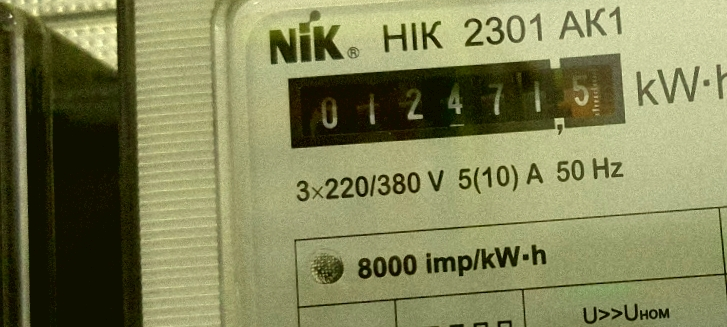0: (316, 92, 341, 130)
1: (365, 90, 378, 126), (530, 77, 543, 113)
2: (403, 84, 426, 122)
4: (444, 79, 465, 116)
5: (570, 69, 593, 108)
7: (484, 78, 506, 118)
screen: (276, 43, 638, 157)
